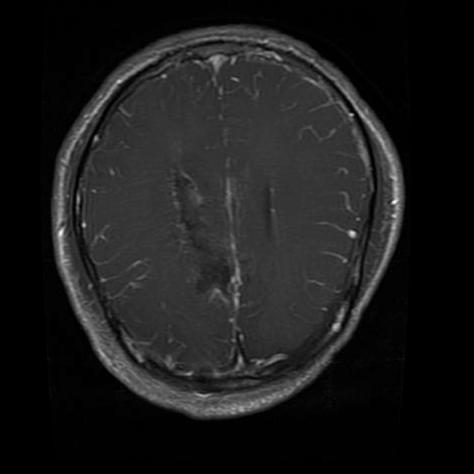Tumour-Glioma: (328, 151, 395, 268)
